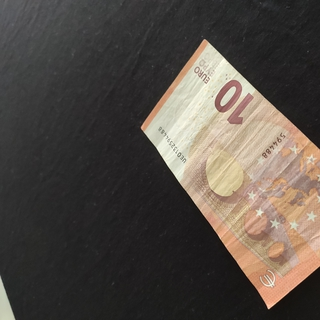10EUROBack: (140, 38, 320, 310)
